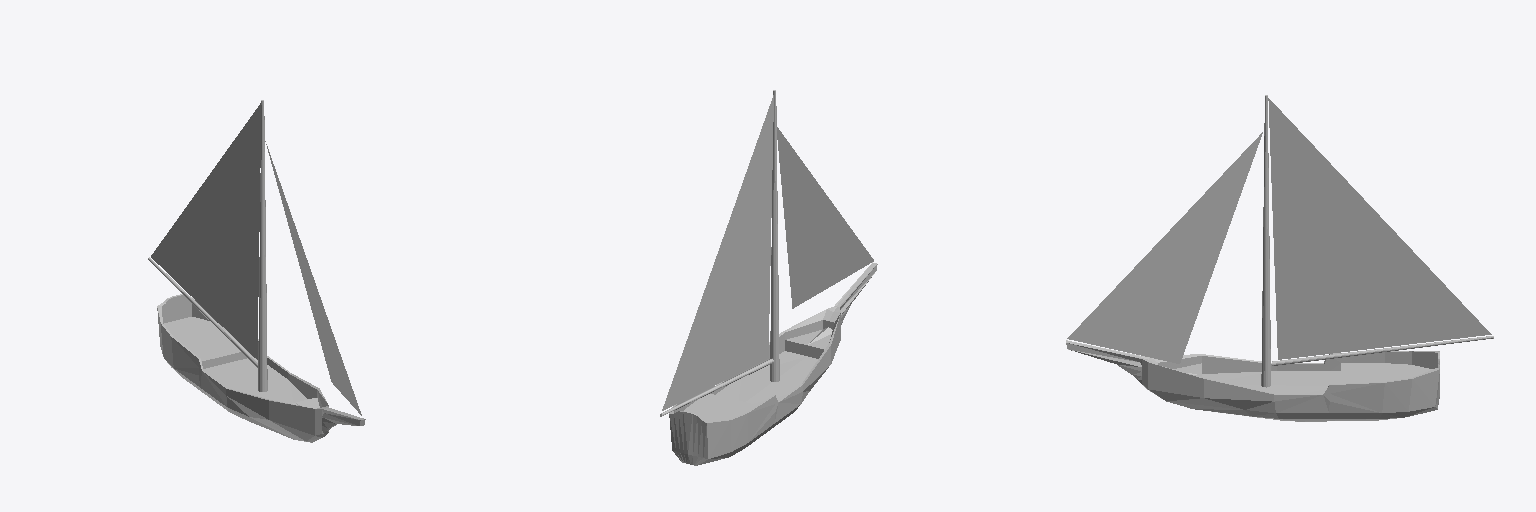
File: Sloop.obj
3 renders of one model, left to right at view 1: azimuth 30°, elevation 25°; view 2: azimuth 150°, elevation 25°; view 3: azimuth 270°, elevation 25°, orthographic.
Parts seen in each view (by area): view 1: Cube; view 2: Cube; view 3: Cube.
Part boxes in pixels (x1,y1,x2,y2): Cube: (148,100,365,442); Cube: (660,90,877,465); Cube: (1066,95,1493,421).
Size of the model in its own units: 0.676 by 3.2 by 3.88.